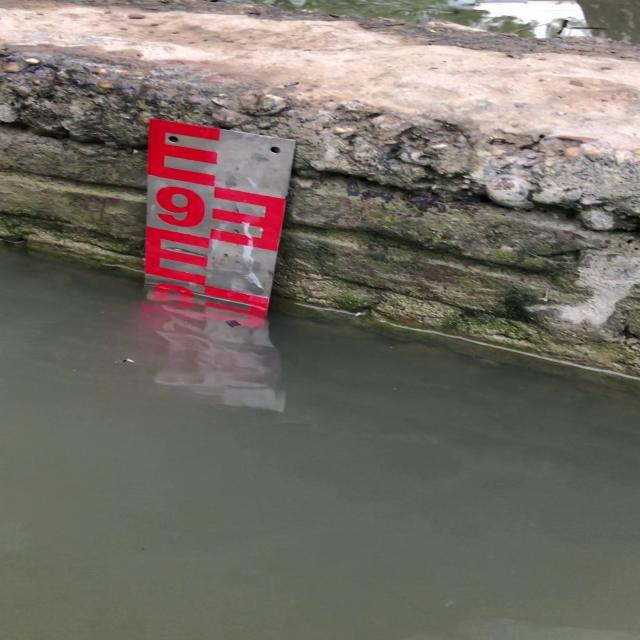ruler: (132, 116, 312, 335)
value: (146, 179, 213, 237)
